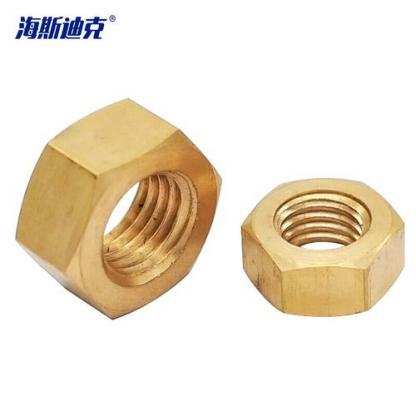FOD: (12, 95, 223, 324), (235, 173, 410, 318)
